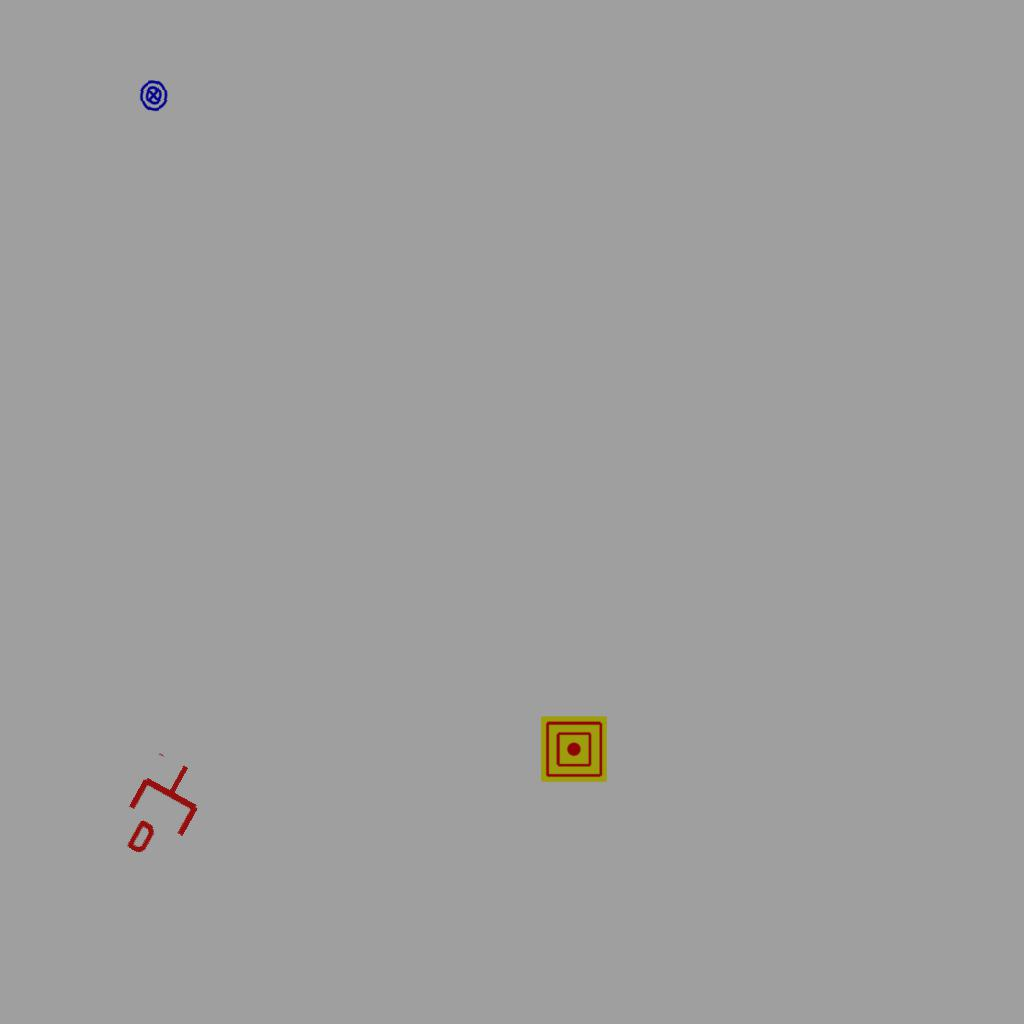Datenanschluss_einfach: (108, 748, 217, 870)
NAM-Nichtautomatischer_Melder: (541, 716, 607, 782)
Taster_beleuchtet: (135, 77, 172, 114)
